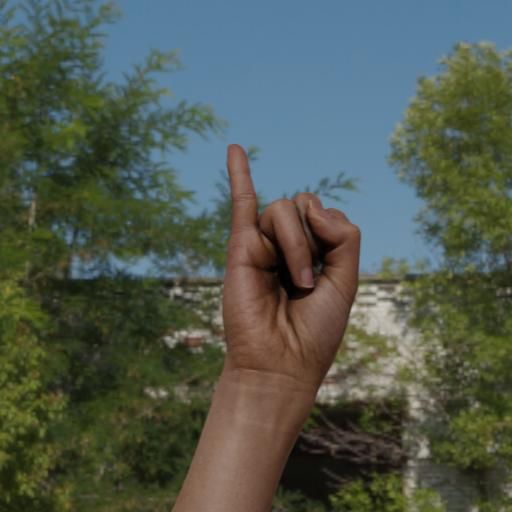I: (159, 100, 401, 446)
